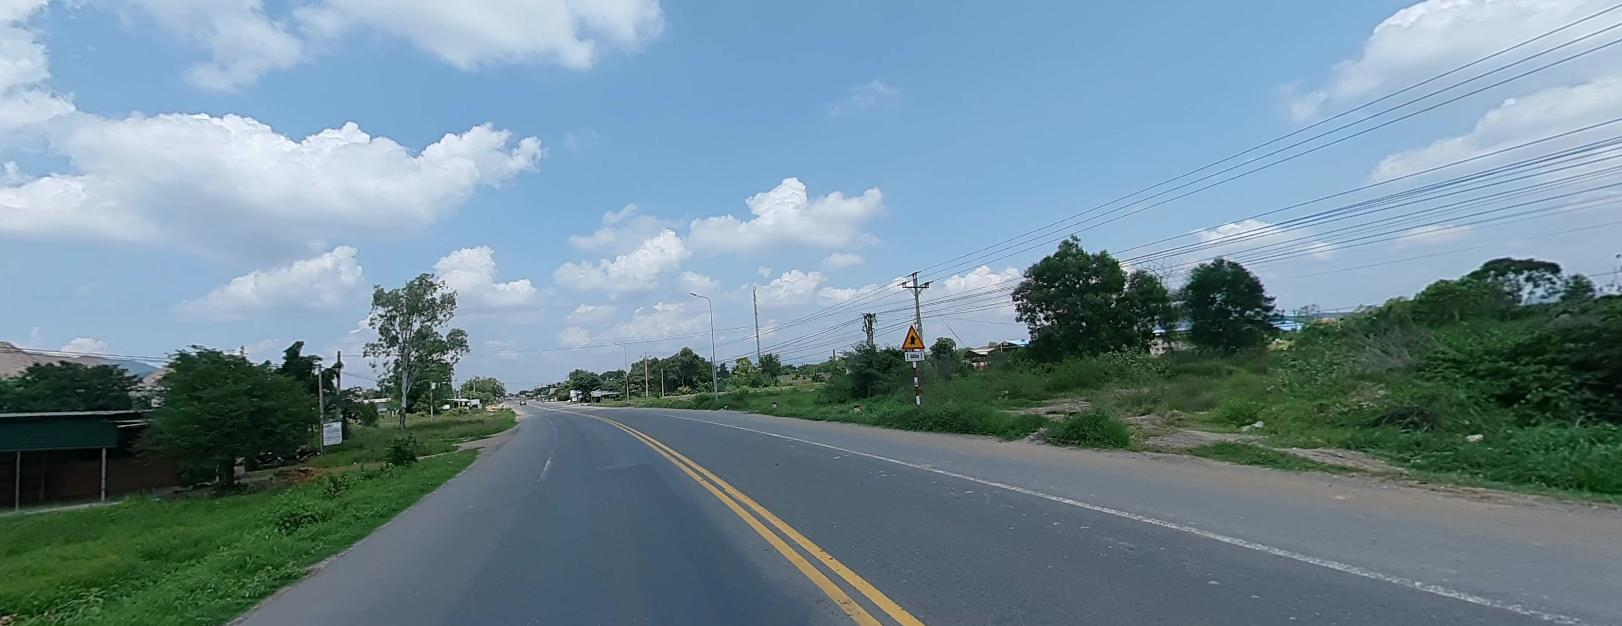Nguy hiem: (901, 322, 924, 348)
